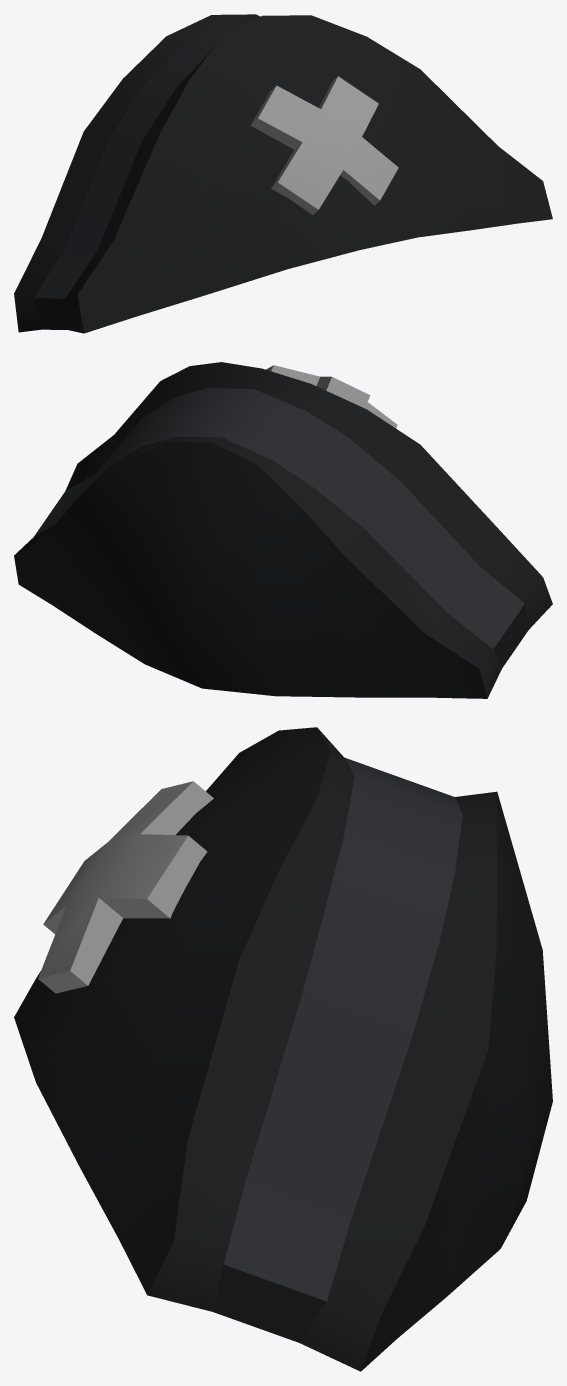
The model's file is Pirate_Hat_03.fbx.
The picture shows the model from 3 angles, top to bottom: view 1: azimuth 30°, elevation 25°; view 2: azimuth 150°, elevation 25°; view 3: azimuth 270°, elevation 25°; orthographic projection. The views are drawn at different scales.
Visible parts, largest first — view 1: Pirate_Hat_03; view 2: Pirate_Hat_03; view 3: Pirate_Hat_03.
Boxes of the visible parts, bbox=[...] form: Pirate_Hat_03: bbox=[14, 14, 552, 333]; Pirate_Hat_03: bbox=[14, 362, 552, 698]; Pirate_Hat_03: bbox=[14, 727, 552, 1371].
Bounding box in the file's own units: 97.36 × 54.75 × 59.42.
